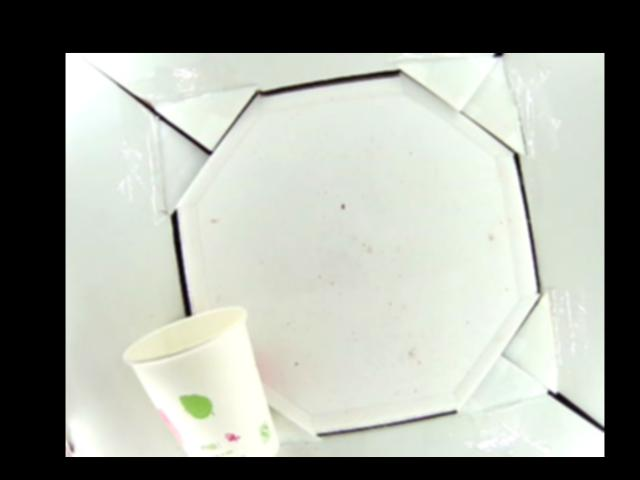Cup: (121, 307, 278, 457)
